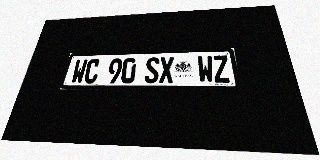0: (120, 58, 137, 83)
9: (106, 58, 123, 83)
C: (83, 59, 101, 84)
S: (144, 57, 160, 83)
W: (197, 56, 214, 83), (70, 59, 88, 84)
X: (159, 57, 174, 83)
Z: (212, 55, 231, 83)
